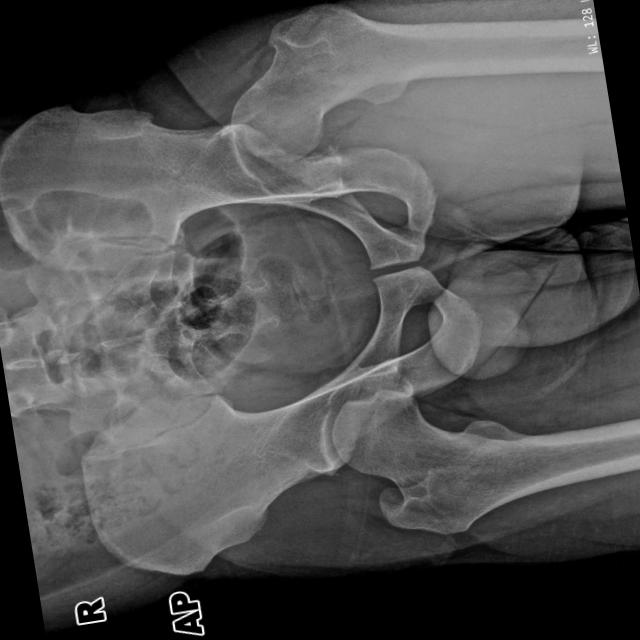left-dislocation: (231, 2, 493, 162)
left-subtrochanteric: (331, 388, 621, 534)
